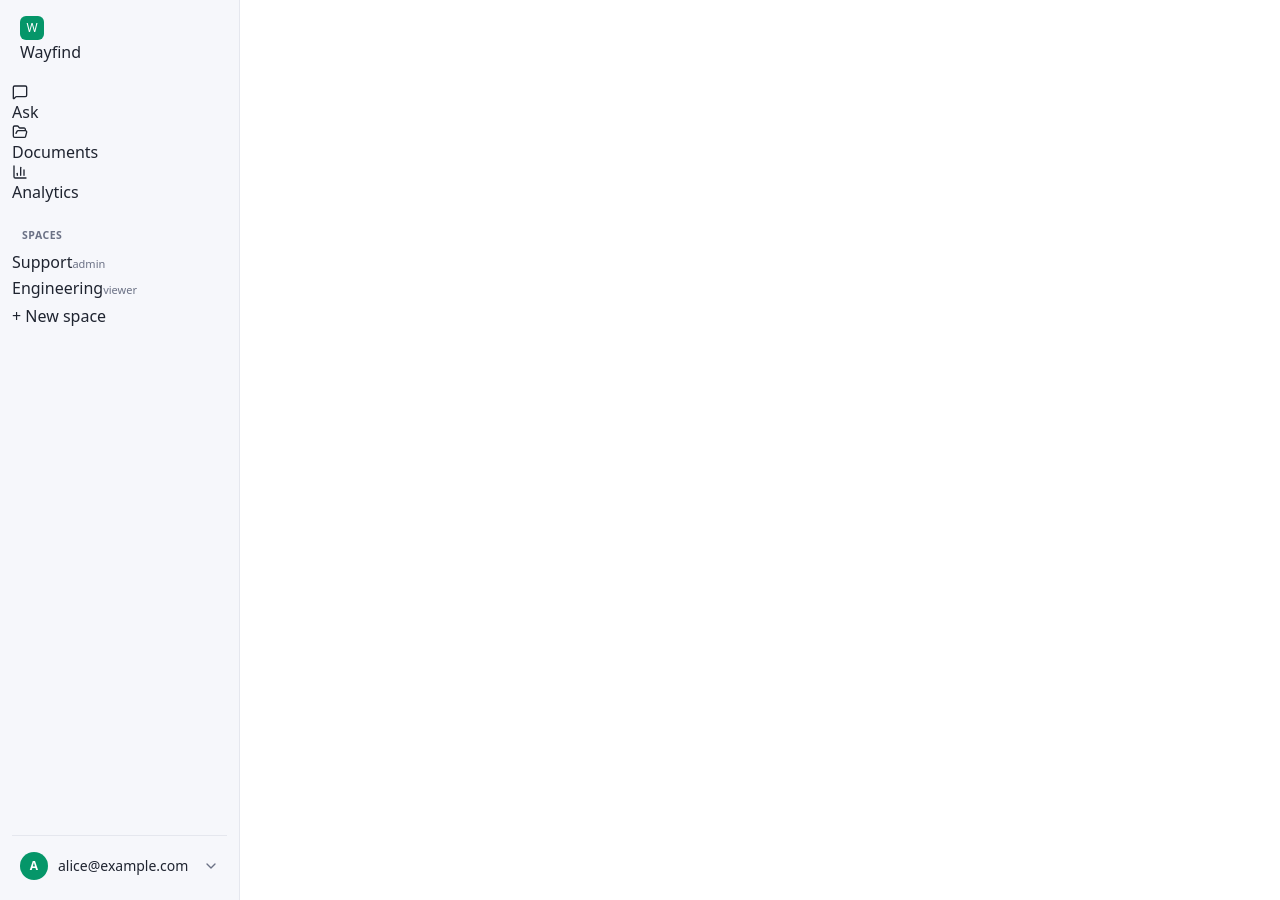
theme choice › choosing Dark applies it at once and remembers it
Step 1. Click the button with aria-label "account menu" → (120, 866), box [12,844,227,888]
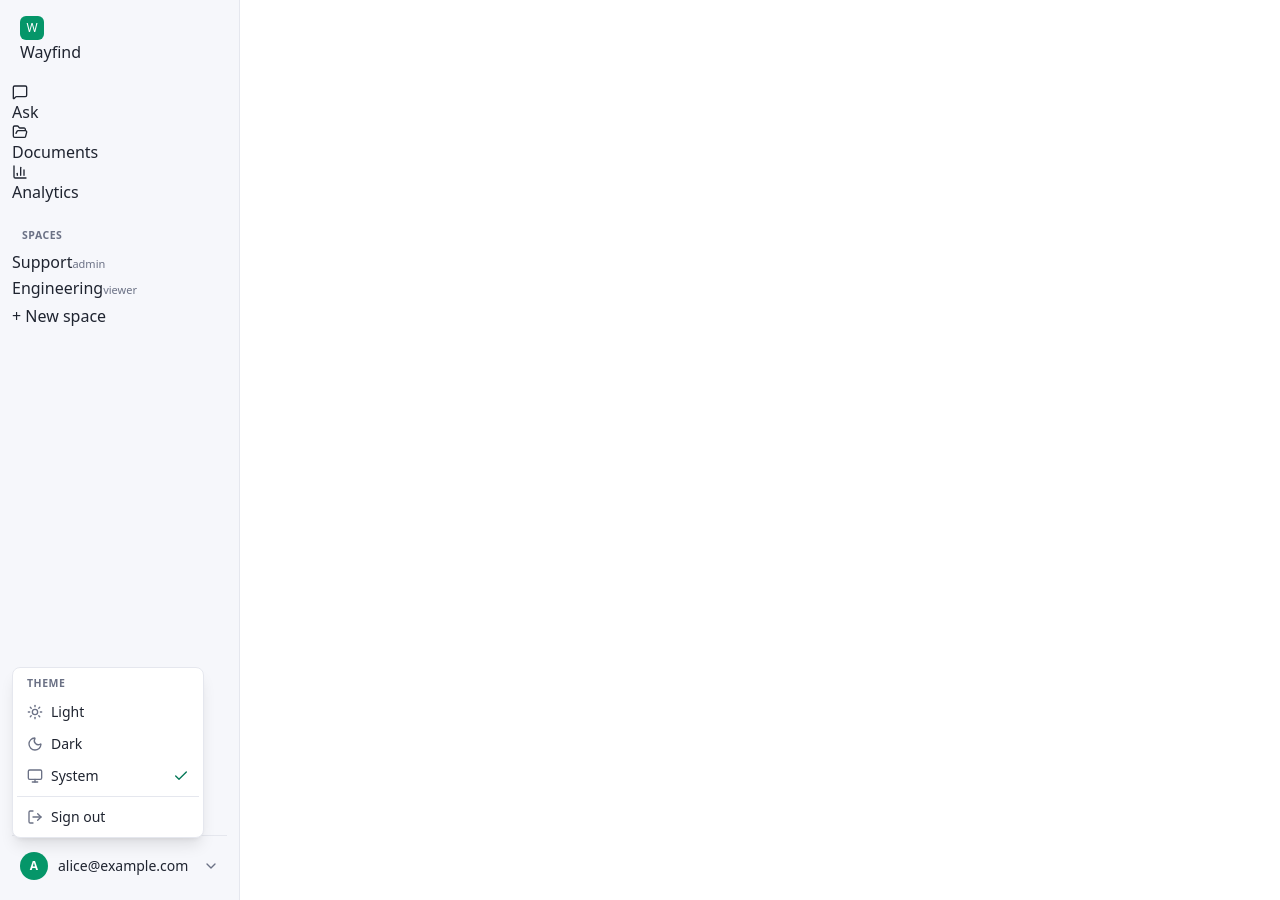
Step 2. Click the menu item "Dark" → (55, 743), box [27,734,82,753]
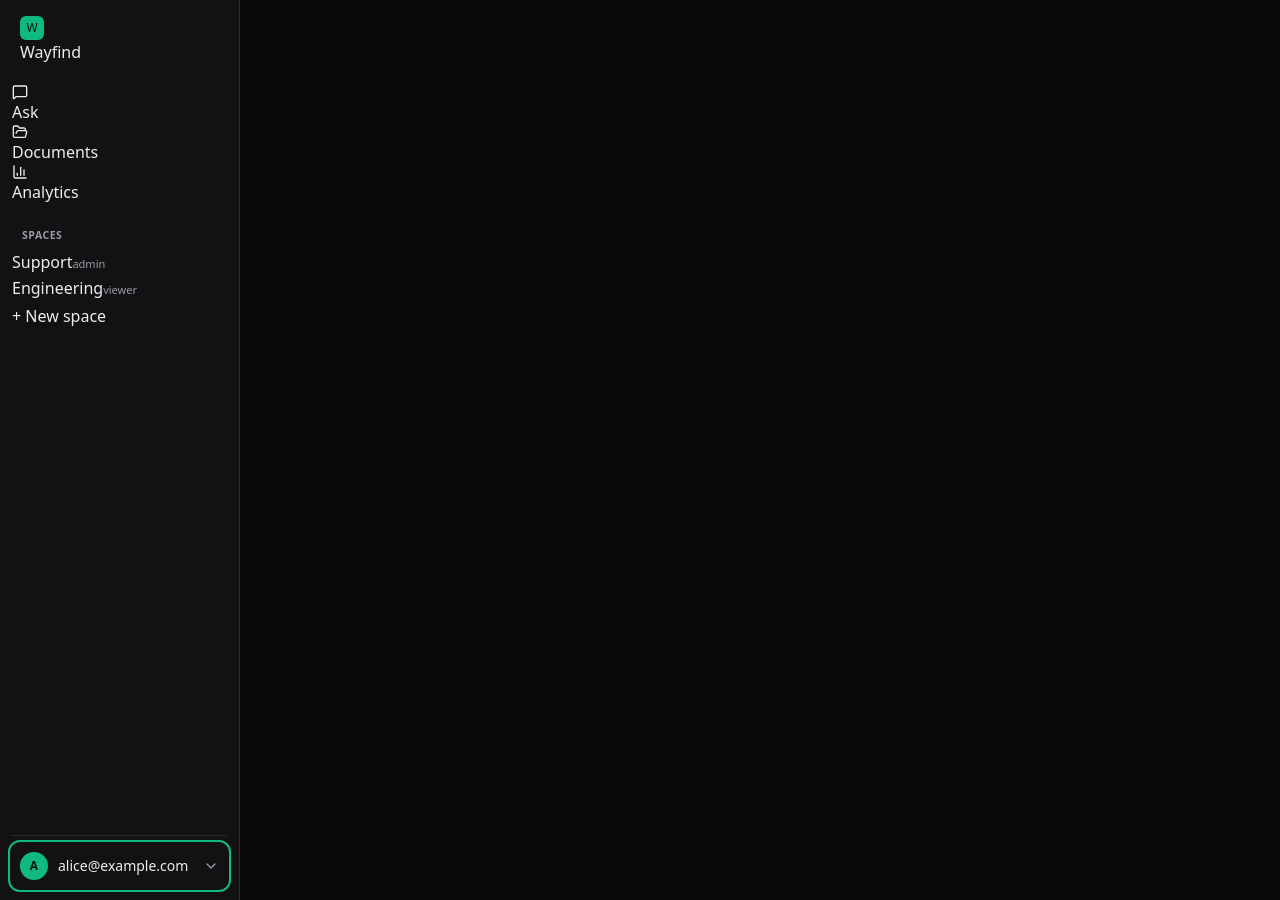
Step 3. Click the button with aria-label "account menu" → (120, 866), box [12,844,227,888]
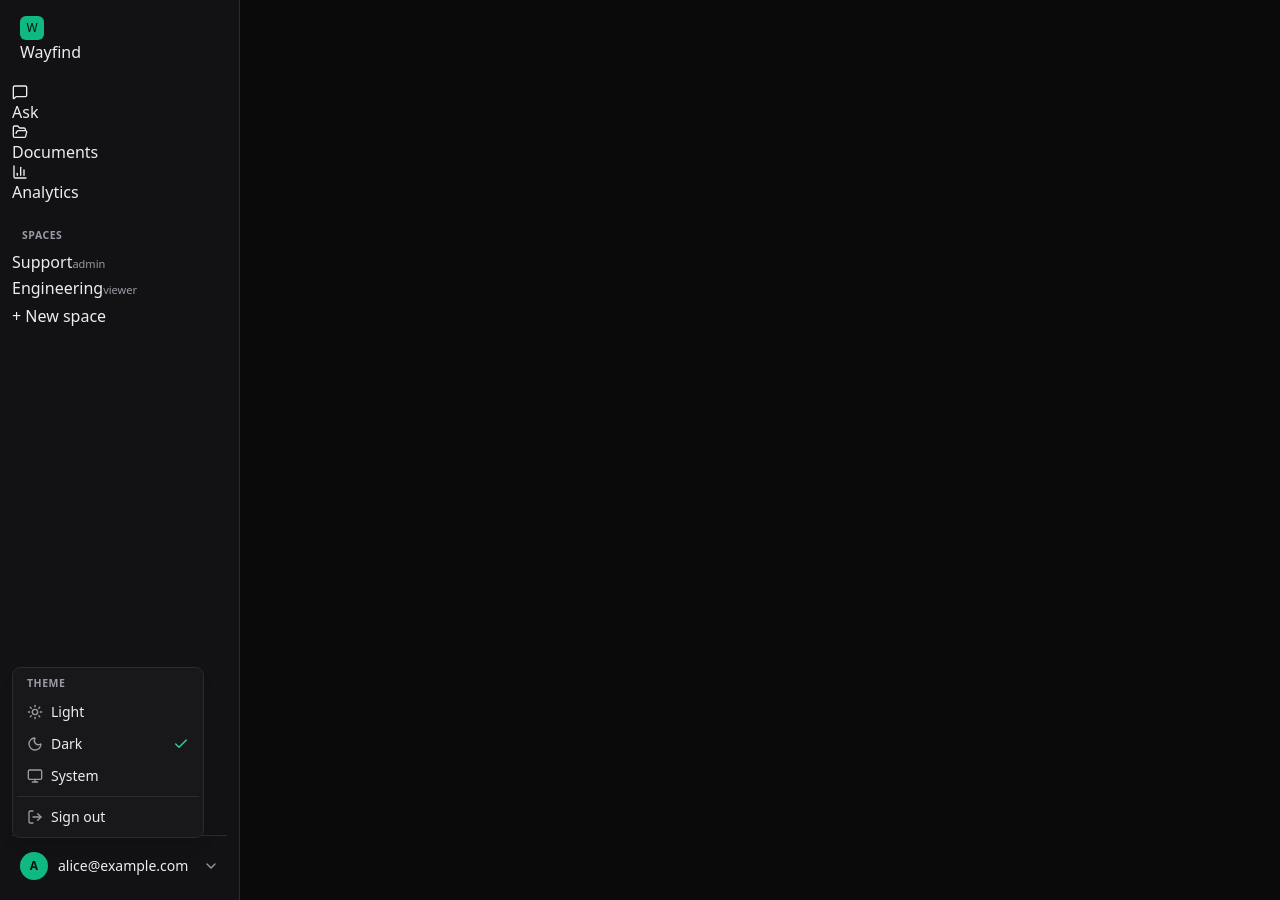
Now the menu item "Dark" is checked, box [27,734,189,753]
